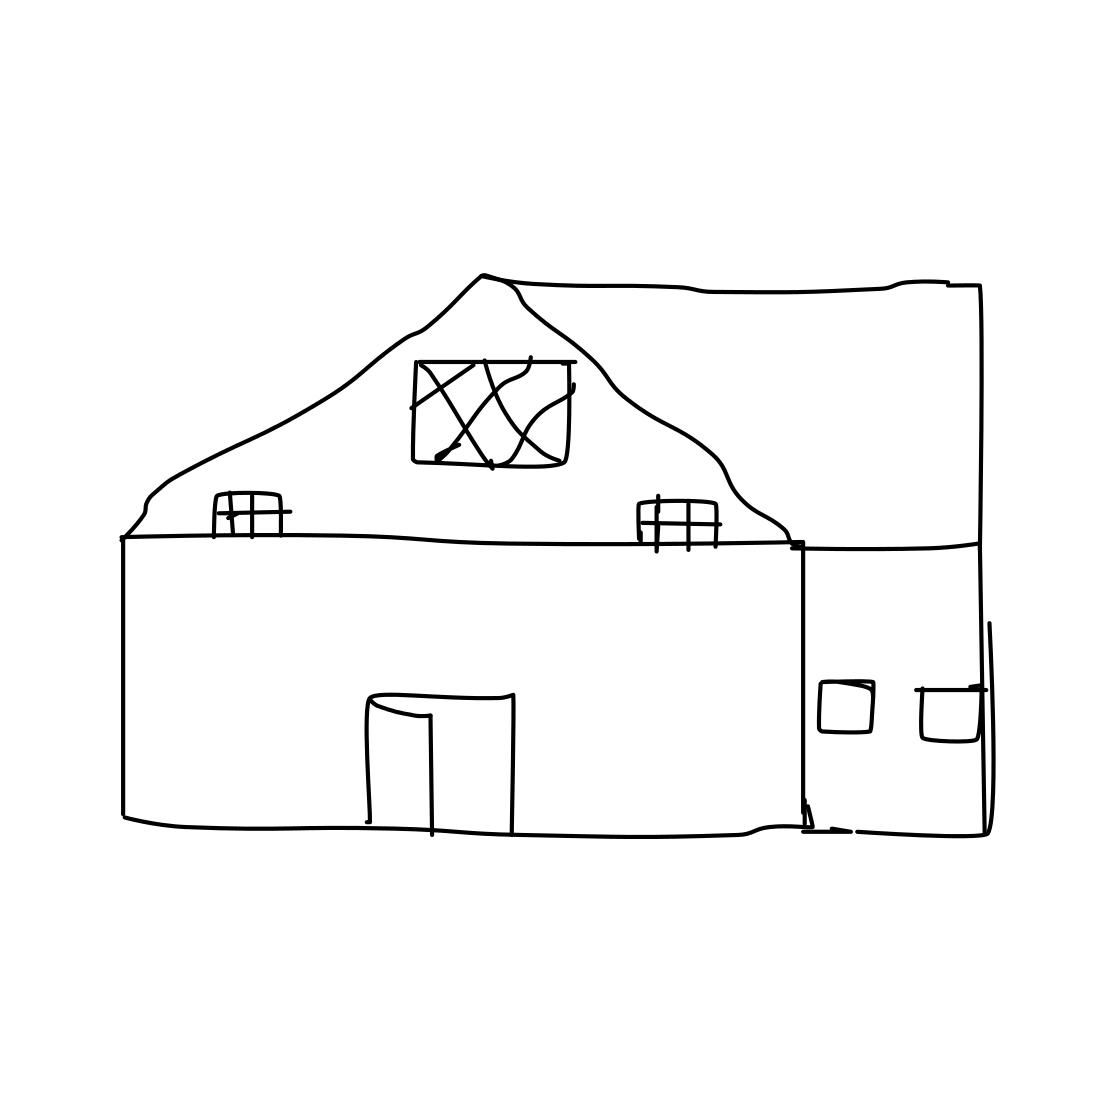House: (53, 230, 1045, 868)
